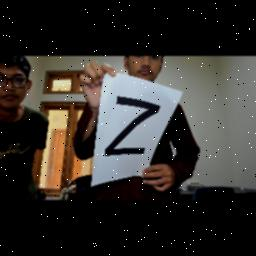z: (102, 93, 160, 165)
